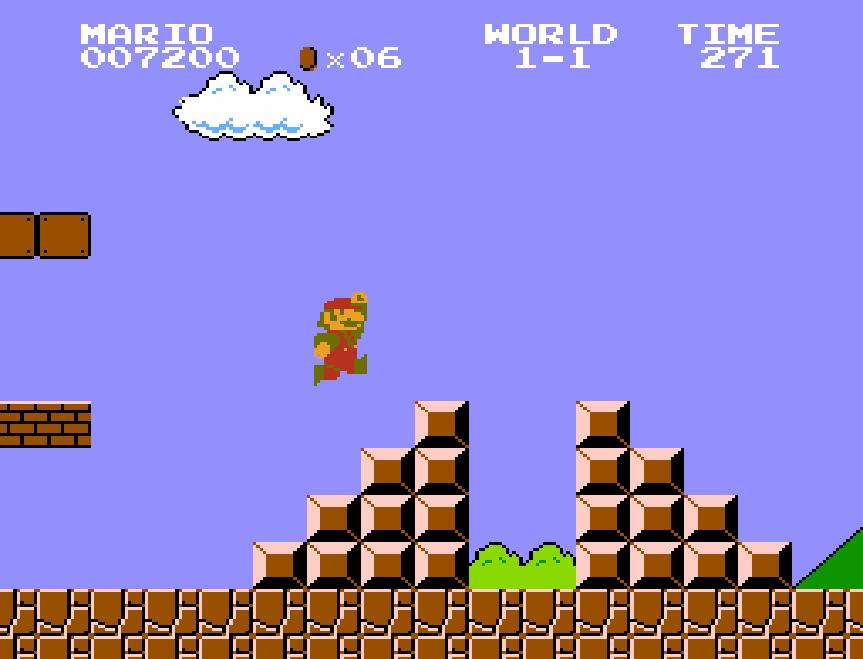big_mario: (311, 289, 369, 388)
